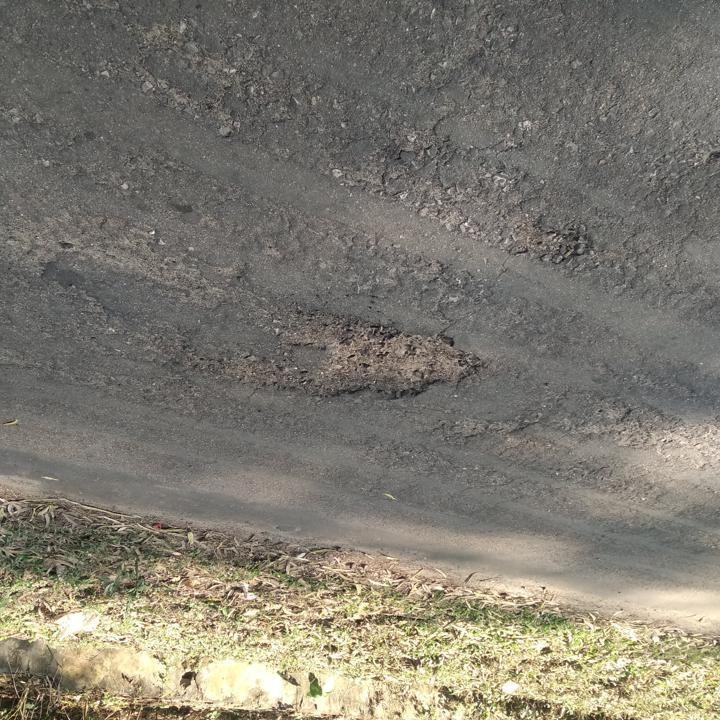pothole: (192, 308, 488, 406), (508, 212, 596, 267)
